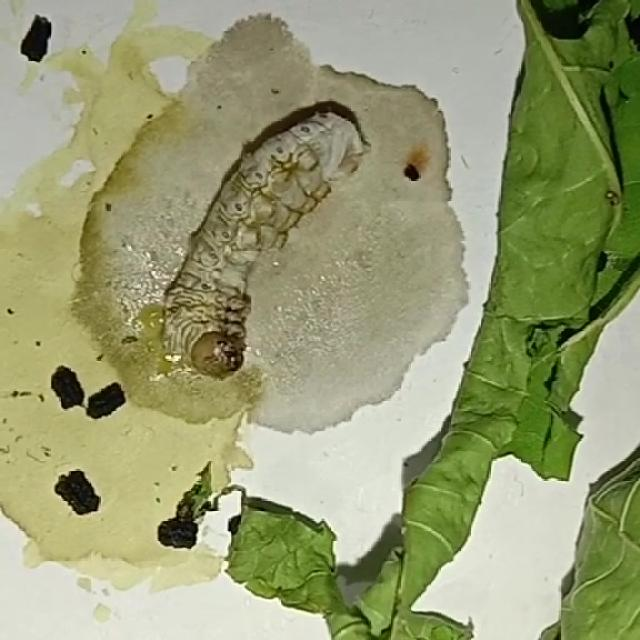Grasserie: (117, 56, 378, 440)
